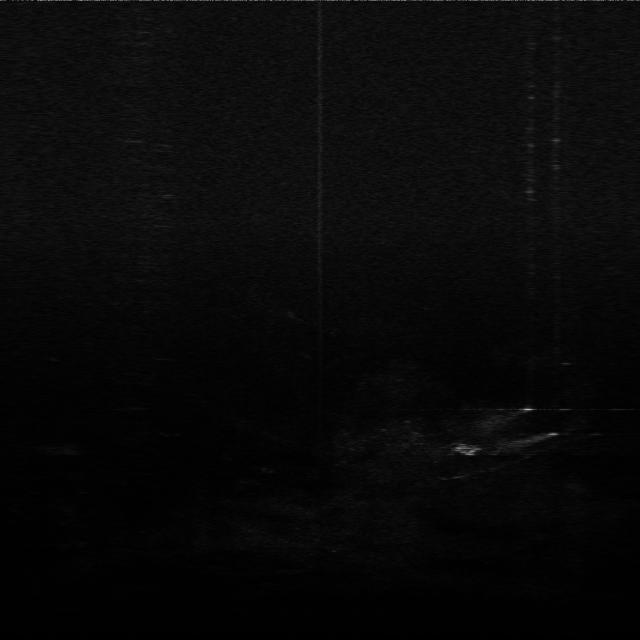rov: (450, 441, 480, 458)
